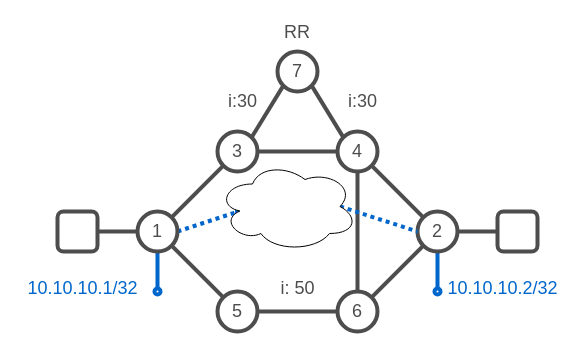
The diagram is 584 pixels wide and 350 high, and some of its shapes have lost their labels. Each missing label, with the centre of its shape:
lx1: the point at 77,231
lx2: the point at 517,231
VPN Customer 1: the point at 287,206
